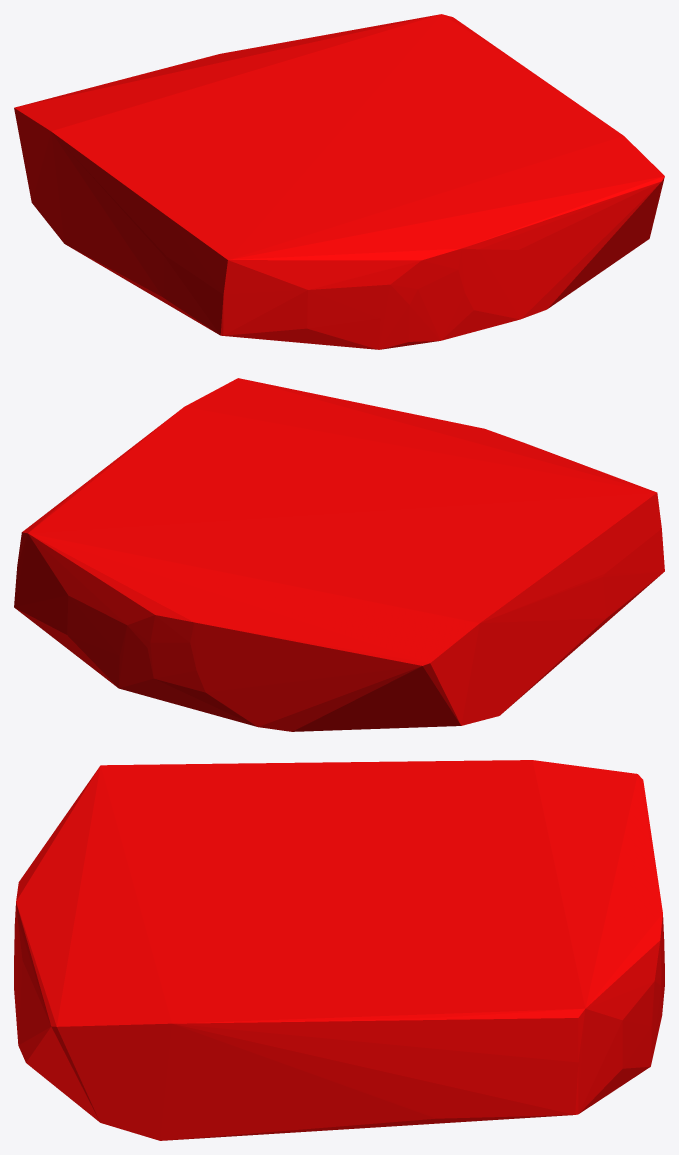
The model's file is wrist_pitch_0091_convex_hull_05.obj.
3 renders of one model, top to bottom at view 1: azimuth 30°, elevation 25°; view 2: azimuth 150°, elevation 25°; view 3: azimuth 270°, elevation 25°, orthographic. The views are drawn at different scales.
Visible parts, largest first — view 1: wrist_pitch_0091_convex_hull_05; view 2: wrist_pitch_0091_convex_hull_05; view 3: wrist_pitch_0091_convex_hull_05.
Part boxes in pixels (bbox=[...]): wrist_pitch_0091_convex_hull_05: bbox=[14, 14, 664, 349]; wrist_pitch_0091_convex_hull_05: bbox=[14, 378, 664, 731]; wrist_pitch_0091_convex_hull_05: bbox=[14, 760, 664, 1140].
Size of the model in its own units: 0.061 by 0.0138 by 0.0637.
